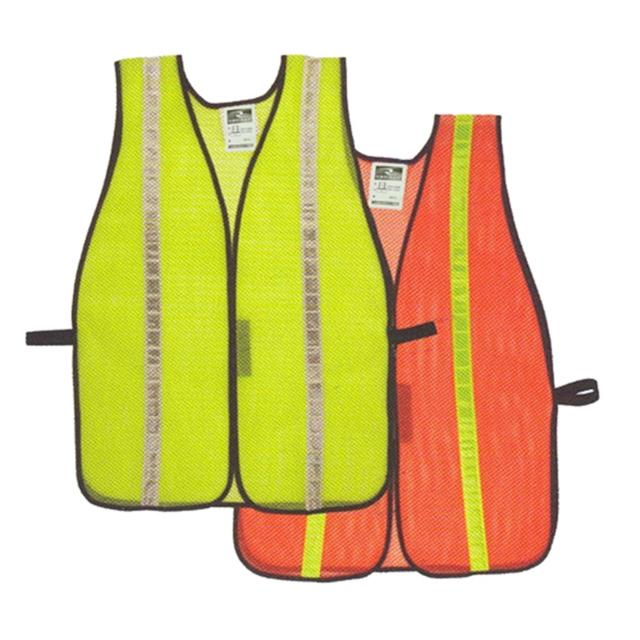Reflective-Jacket: (54, 39, 406, 590), (224, 103, 573, 584)
